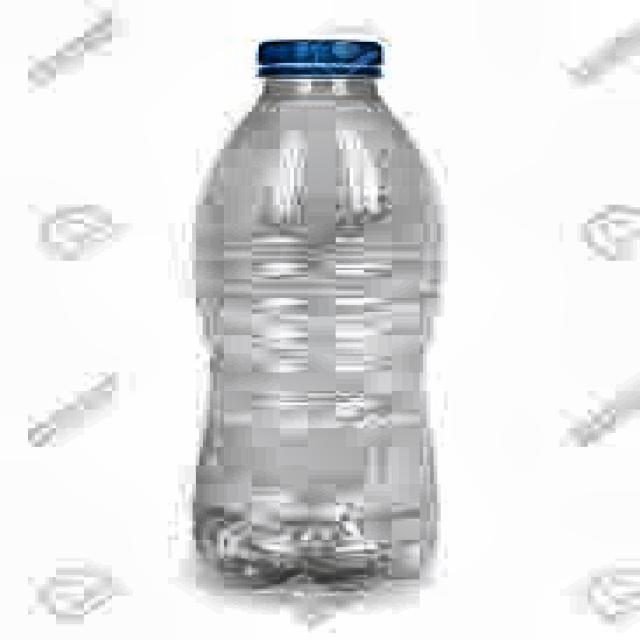plastic bottle: (197, 41, 440, 586)
